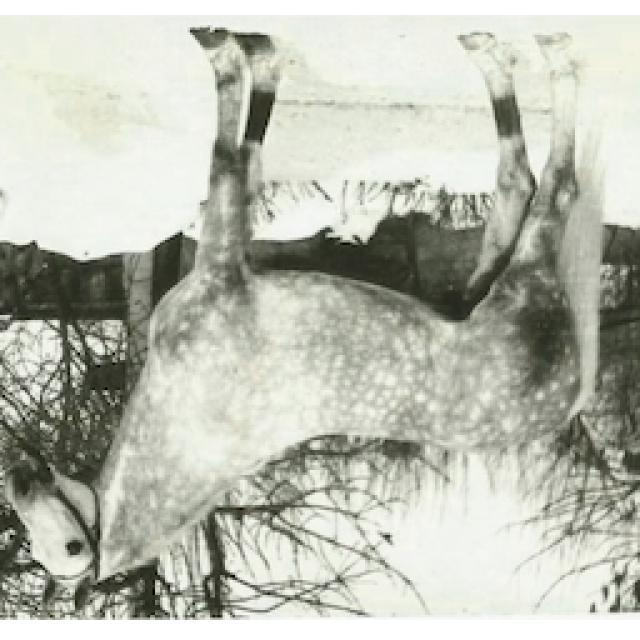Horse: (0, 28, 622, 615)
